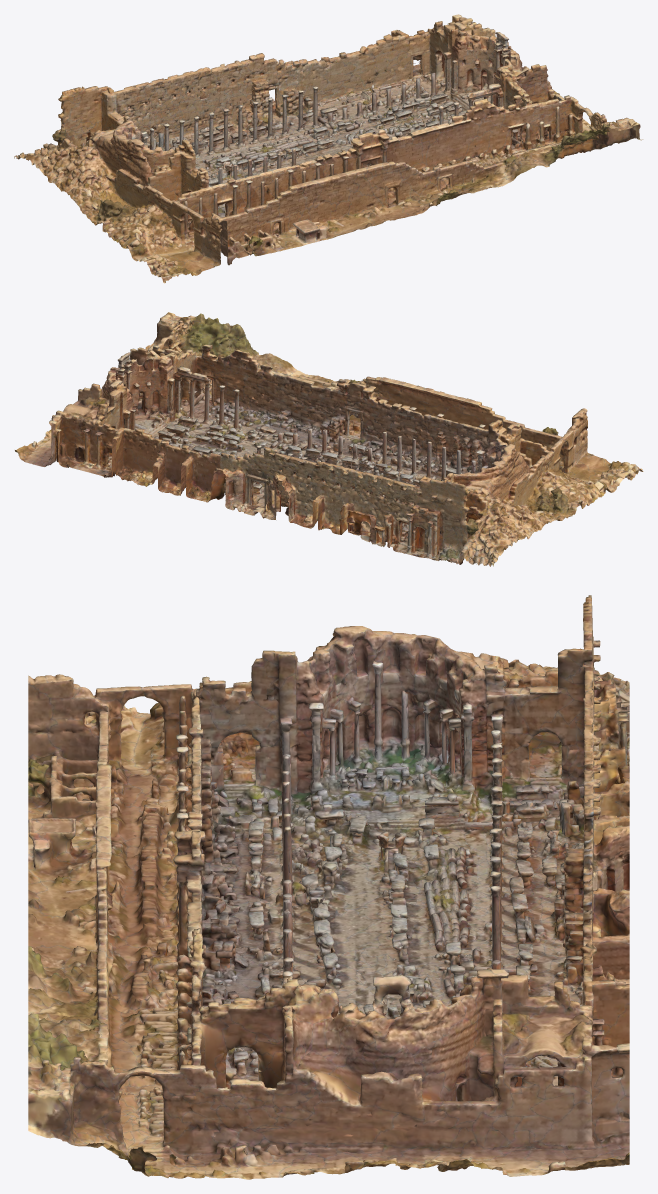
3 views of the same model, one above another, from view 1: azimuth 30°, elevation 25°; view 2: azimuth 150°, elevation 25°; view 3: azimuth 270°, elevation 25° (orthographic). The views are drawn at different scales.
Visible parts, largest first — view 1: LBY_002_M5_Basilica; view 2: LBY_002_M5_Basilica; view 3: LBY_002_M5_Basilica.
Part boxes in pixels (box(x1,y1,x2,y2)): LBY_002_M5_Basilica: box(14, 14, 643, 283); LBY_002_M5_Basilica: box(15, 312, 643, 566); LBY_002_M5_Basilica: box(28, 595, 629, 1179).
Size of the model in its own units: 107 by 16.99 by 58.08.
Materials: 1 (1 with a texture image).
